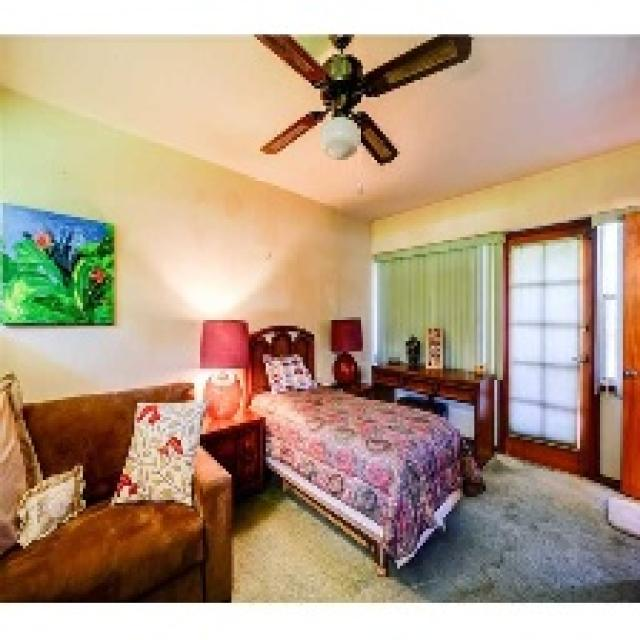Bed: (246, 323, 471, 574)
